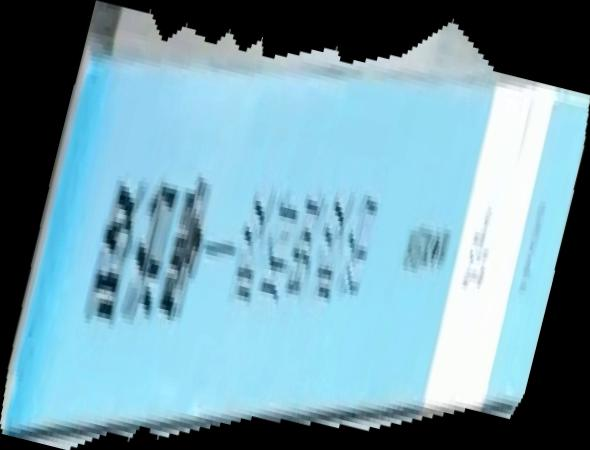flat: (1, 1, 590, 450)
